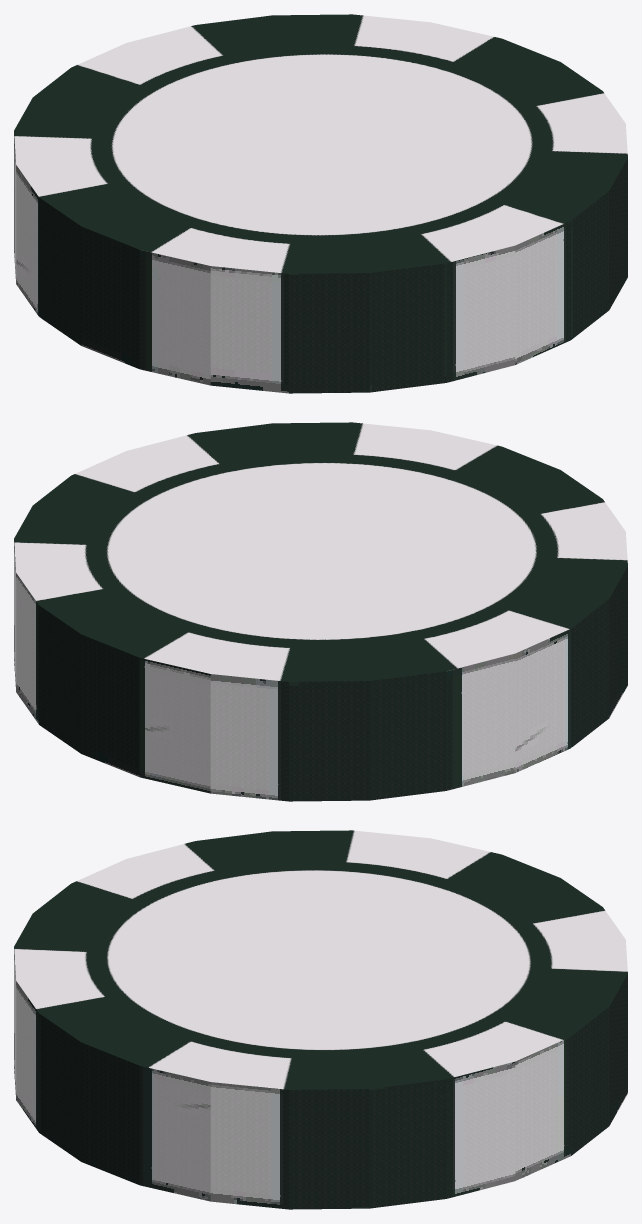
The model's file is RisingPlatform.glb.
3 views of the same model, one above another, from view 1: azimuth 30°, elevation 25°; view 2: azimuth 150°, elevation 25°; view 3: azimuth 270°, elevation 25° (orthographic).
Parts seen in each view (by area): view 1: ChipMesh; view 2: ChipMesh; view 3: ChipMesh.
Part boxes in pixels (bbox=[...]): ChipMesh: bbox=[14, 14, 627, 393]; ChipMesh: bbox=[14, 422, 627, 801]; ChipMesh: bbox=[14, 830, 627, 1209].
Bounding box in the file's own units: 8.24 × 1.77 × 8.24.
2 materials, 2 textured.
